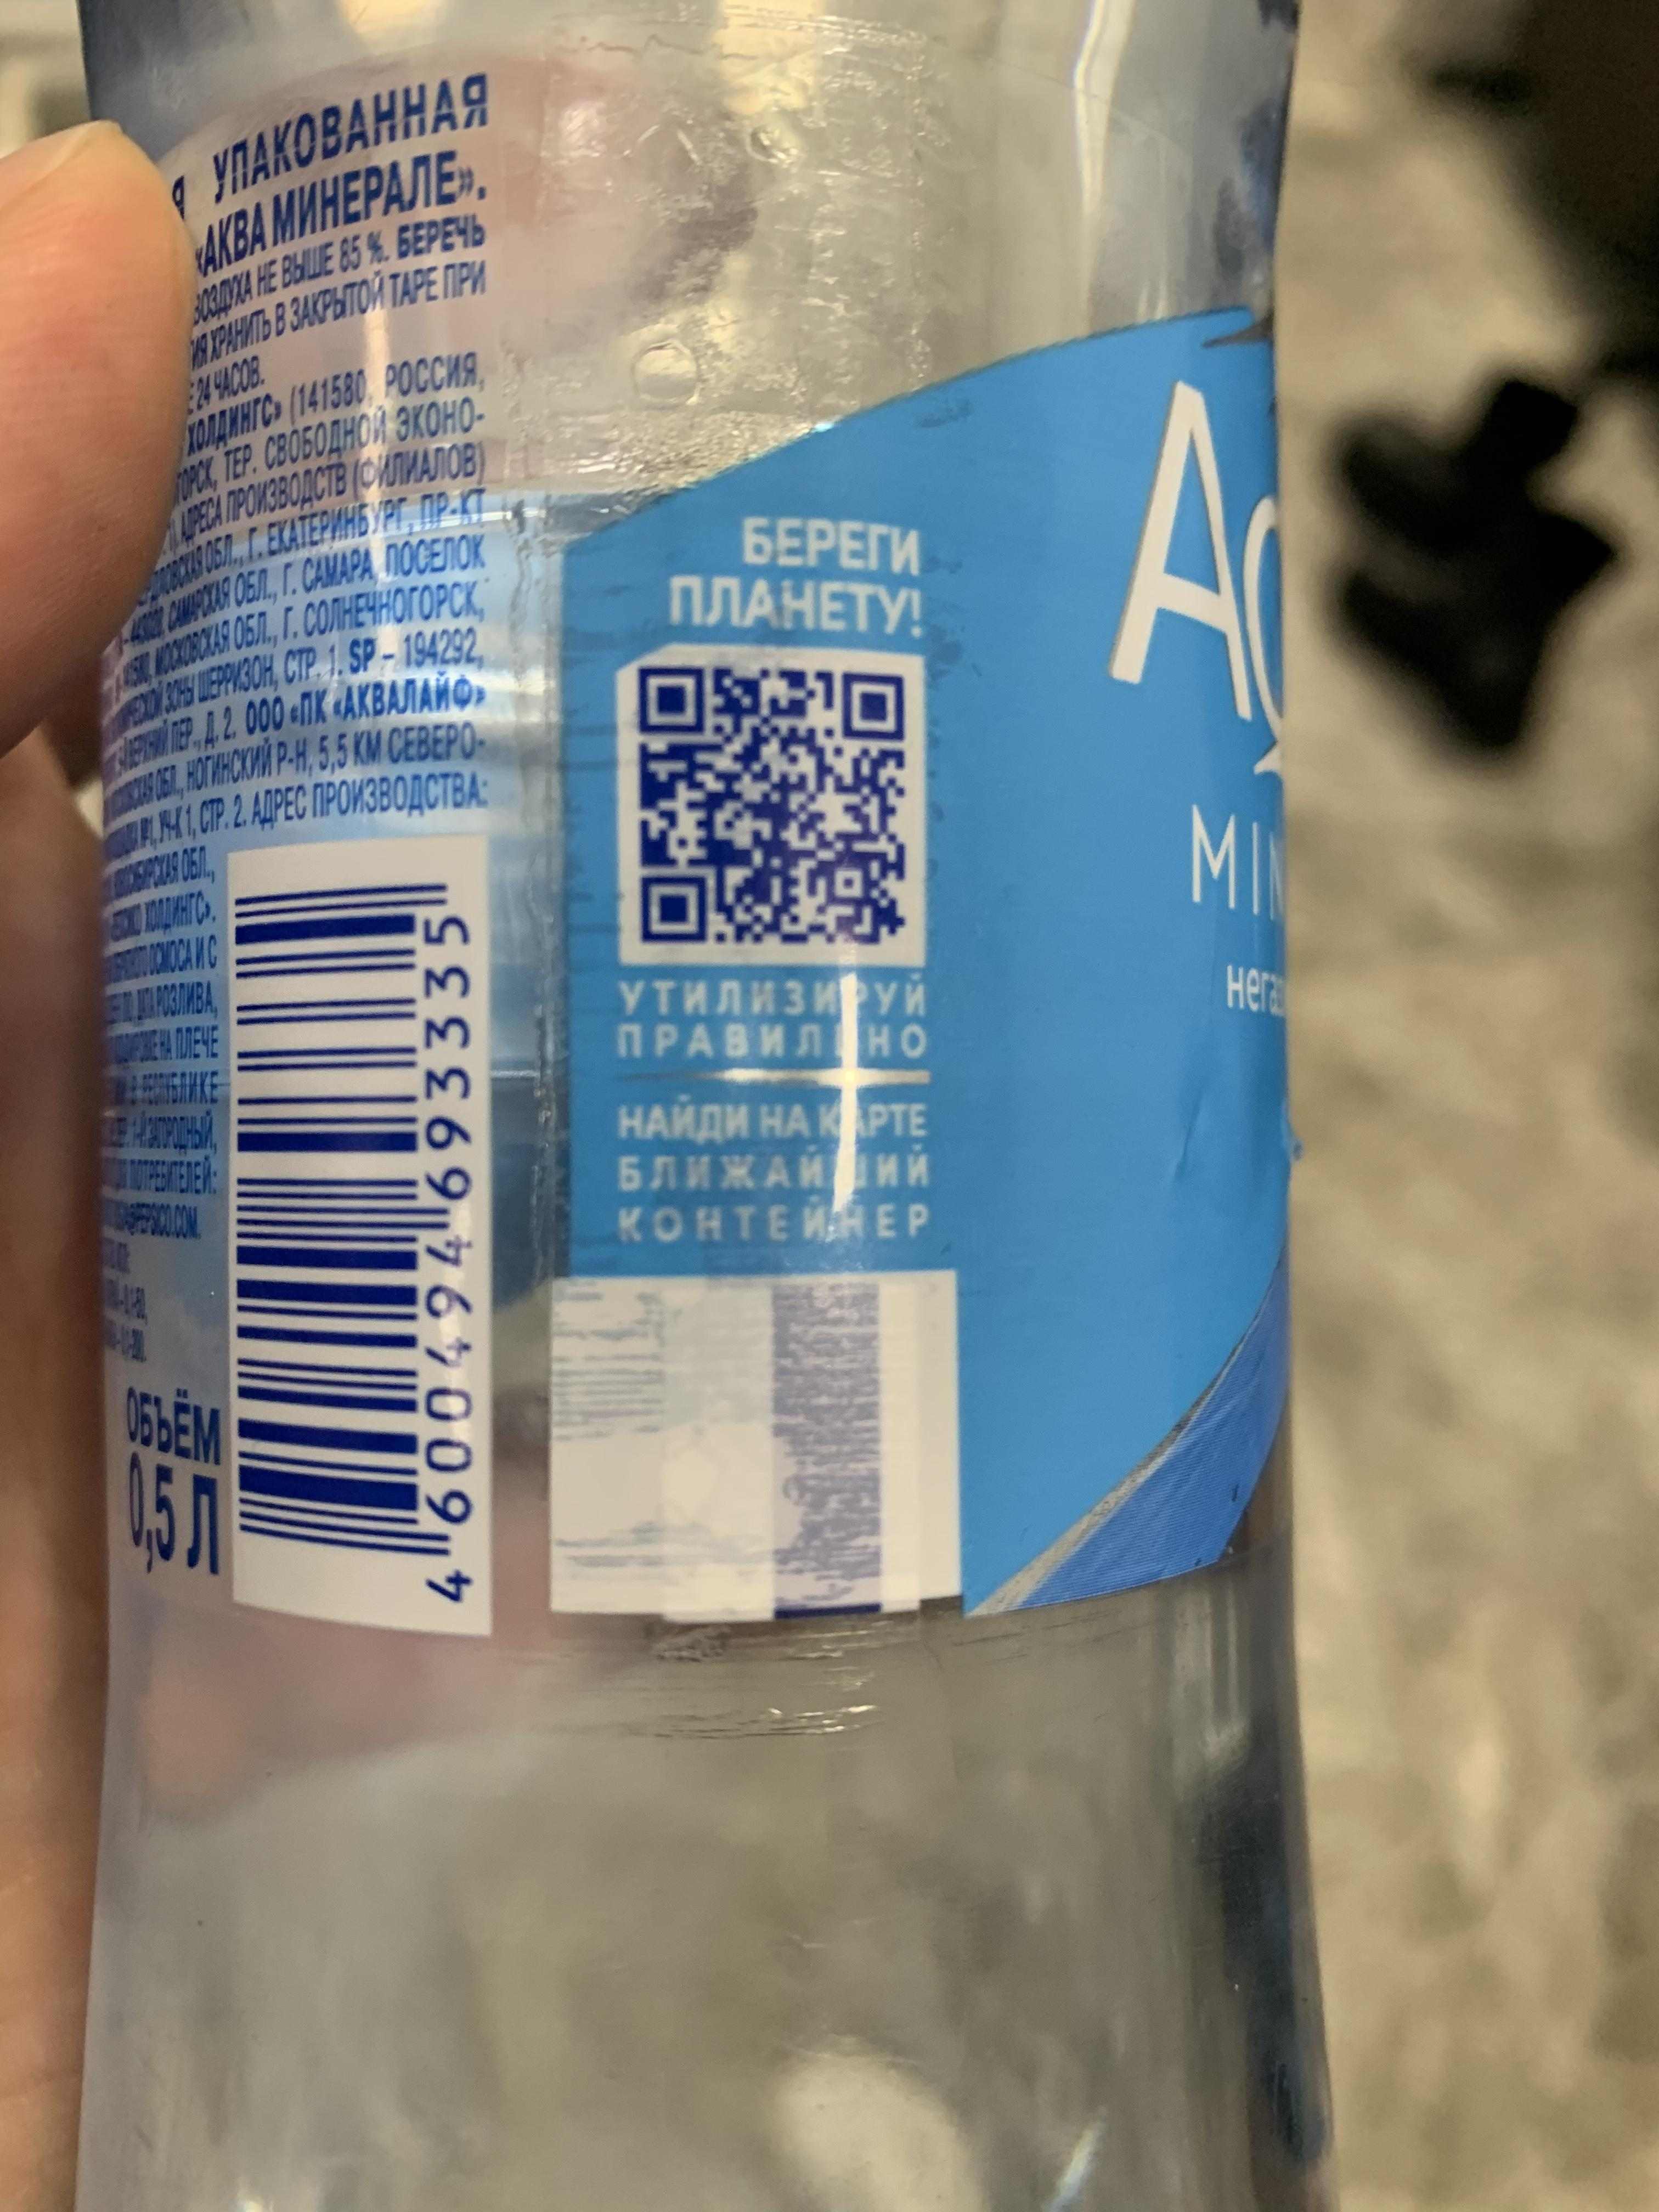qrcode: (638, 662, 911, 948)
